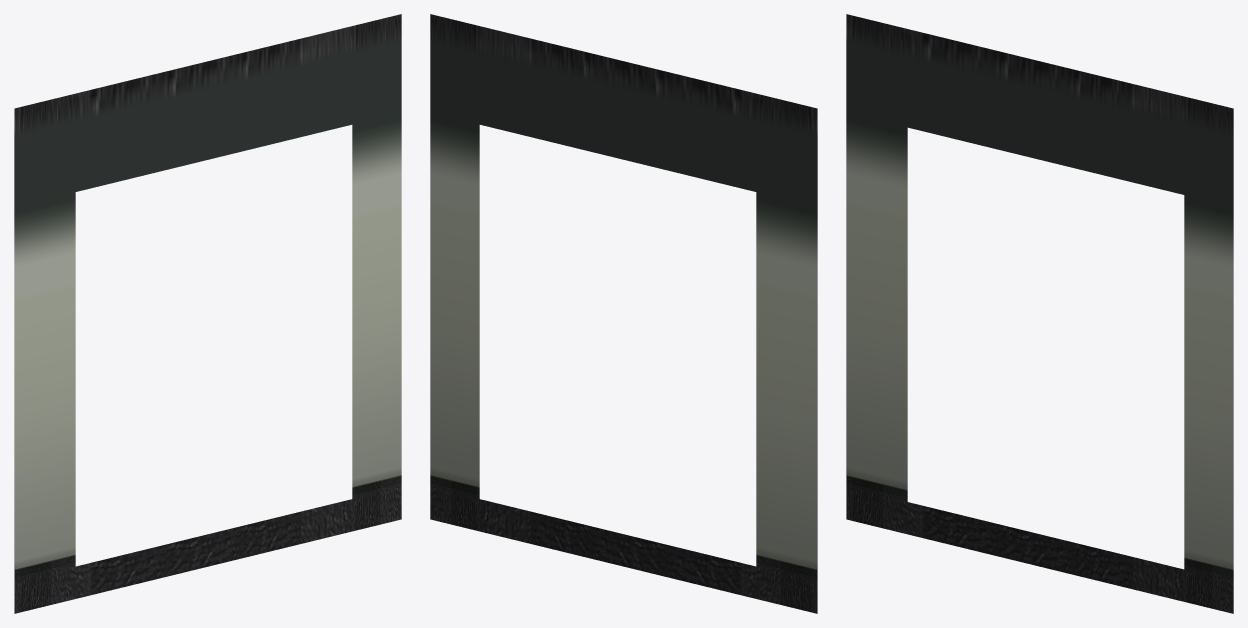
File: marco.FBX
3 renders of one model, left to right at view 1: azimuth 30°, elevation 25°; view 2: azimuth 150°, elevation 25°; view 3: azimuth 330°, elevation 25°, orthographic.
Parts seen in each view (by area): view 1: MarcoparedAscensor; view 2: MarcoparedAscensor; view 3: MarcoparedAscensor.
Boxes of the visible parts, bbox=[...] form: MarcoparedAscensor: bbox=[14, 14, 401, 613]; MarcoparedAscensor: bbox=[430, 14, 817, 613]; MarcoparedAscensor: bbox=[846, 14, 1233, 613].
Bounding box in the file's own units: 155 × 193 × 4.92e-05.
